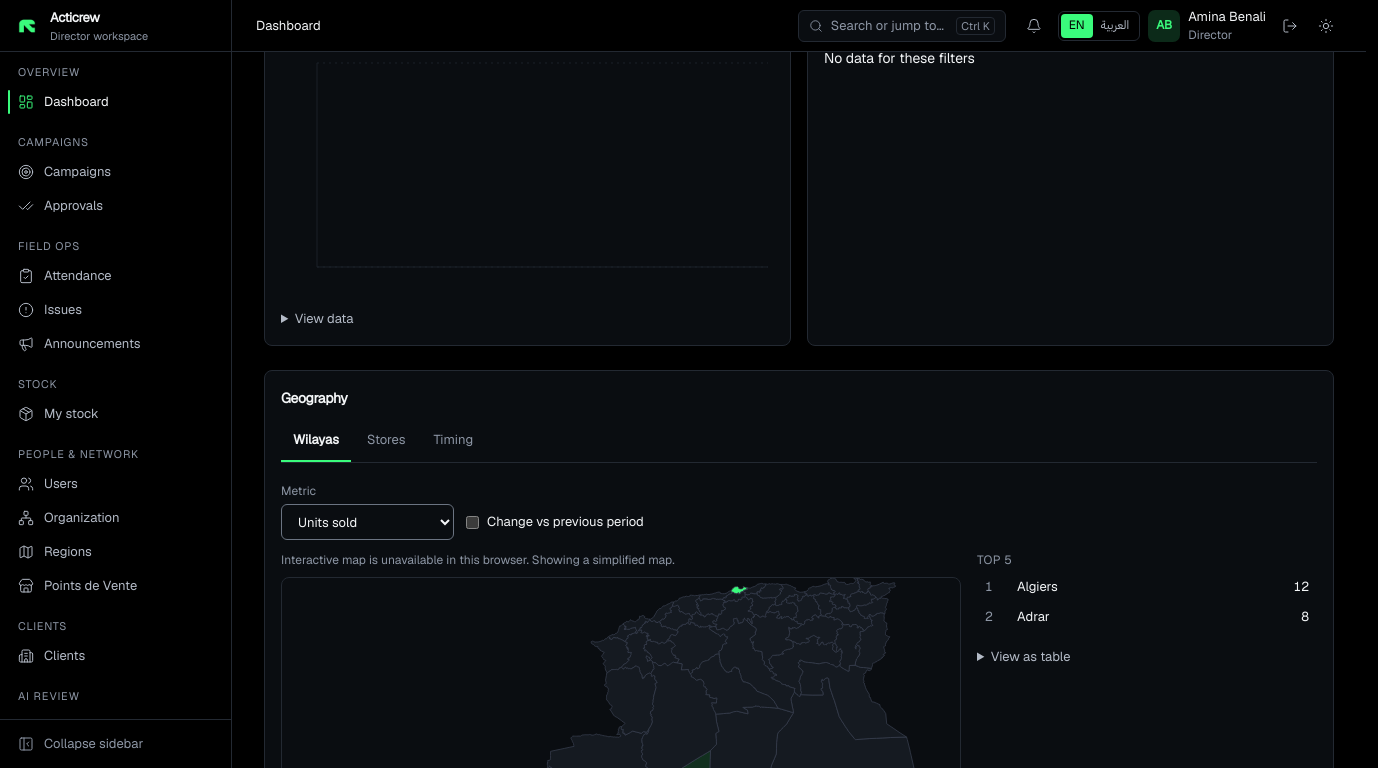
Test: dashboard geography › shows weekday by hour heatmaps with a table twin
The width and height of the screenshot is (1378, 768).
(page scrolled)
Click the tab "Timing". click: (453, 441)
box: x1=422 y1=420 x2=485 y2=462
(page scrolled)
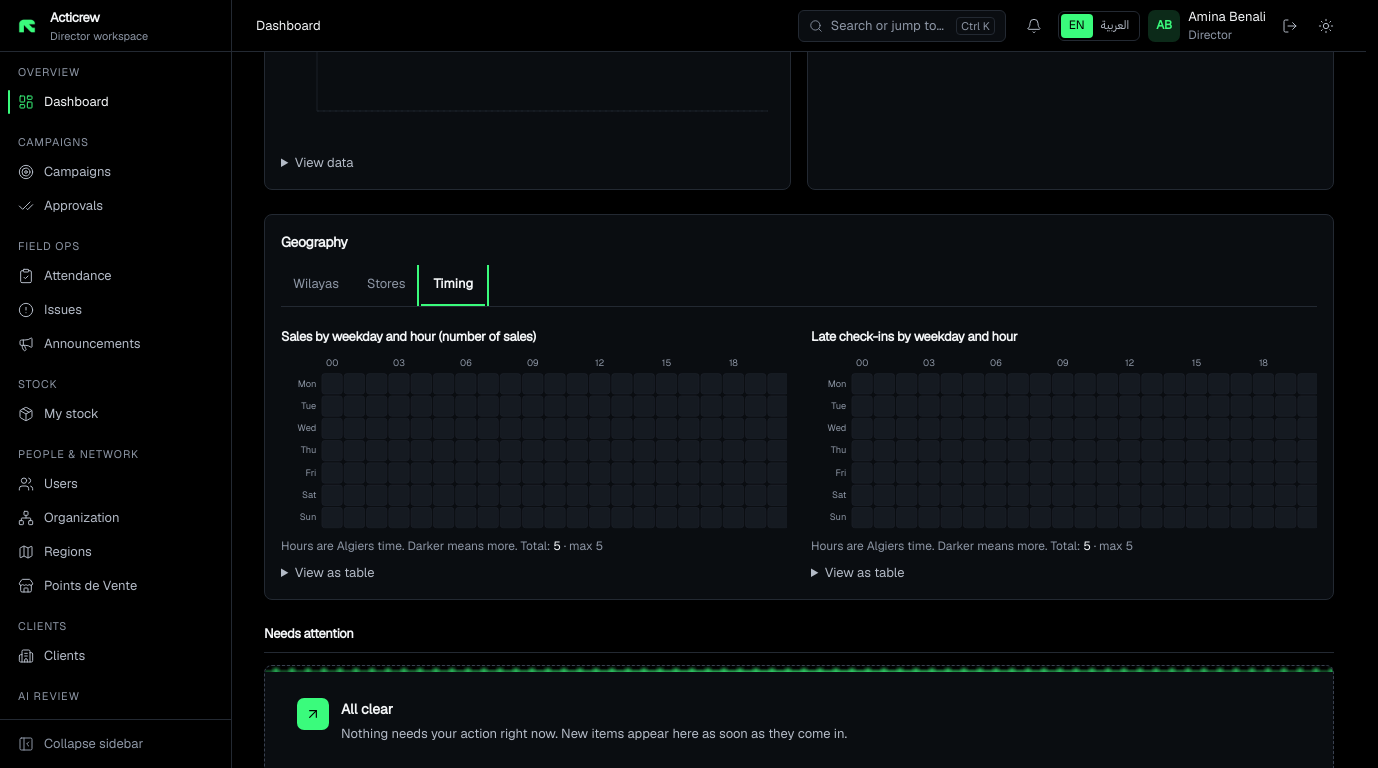
Expected: the picture named "Sales by weekday and hour" is shown, x1=281 y1=355 x2=787 y2=530
Expected: the picture named "Late check-ins by weekday and hour" is shown, x1=811 y1=355 x2=1317 y2=530
Expected: the number of headings "View as table" is 2, x1=295 y1=564 x2=375 y2=581; x1=825 y1=564 x2=905 y2=581
